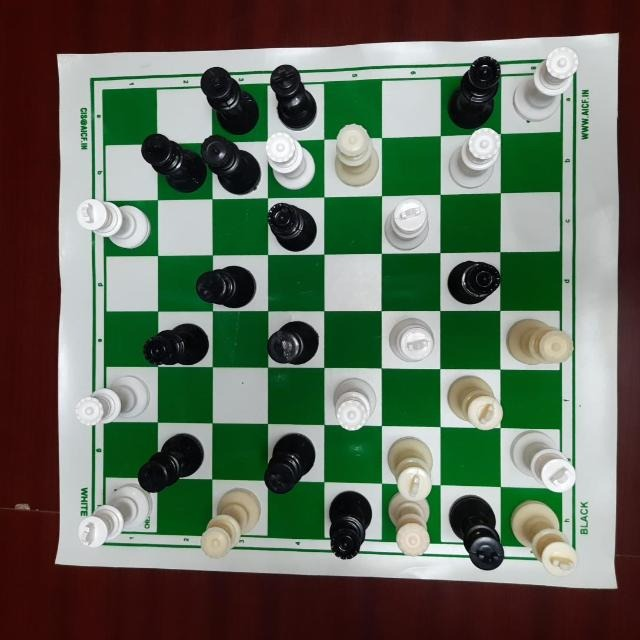black-king: (444, 489, 510, 576), (193, 64, 263, 134), (136, 431, 206, 496), (137, 131, 207, 193), (265, 62, 325, 129), (259, 431, 315, 499), (267, 314, 323, 368), (194, 262, 258, 307)
black-queen: (441, 50, 507, 136), (141, 313, 214, 371), (323, 485, 375, 562), (199, 132, 261, 196), (444, 256, 507, 313), (268, 199, 326, 255)
white-king: (507, 502, 584, 584), (507, 426, 584, 506), (70, 192, 156, 251), (75, 487, 149, 551), (377, 433, 441, 501), (443, 368, 505, 432), (381, 197, 445, 255), (381, 313, 439, 367)
white-queen: (511, 42, 580, 129), (196, 491, 262, 563), (70, 374, 150, 433), (330, 118, 388, 196), (441, 128, 507, 192), (381, 491, 441, 560), (499, 316, 579, 366), (322, 371, 380, 432), (262, 131, 319, 191)
